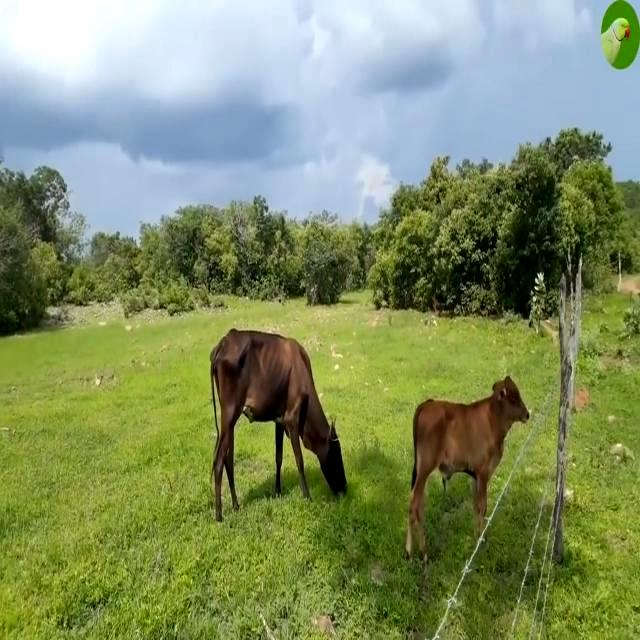COW: (211, 329, 346, 521), (406, 376, 529, 561)
